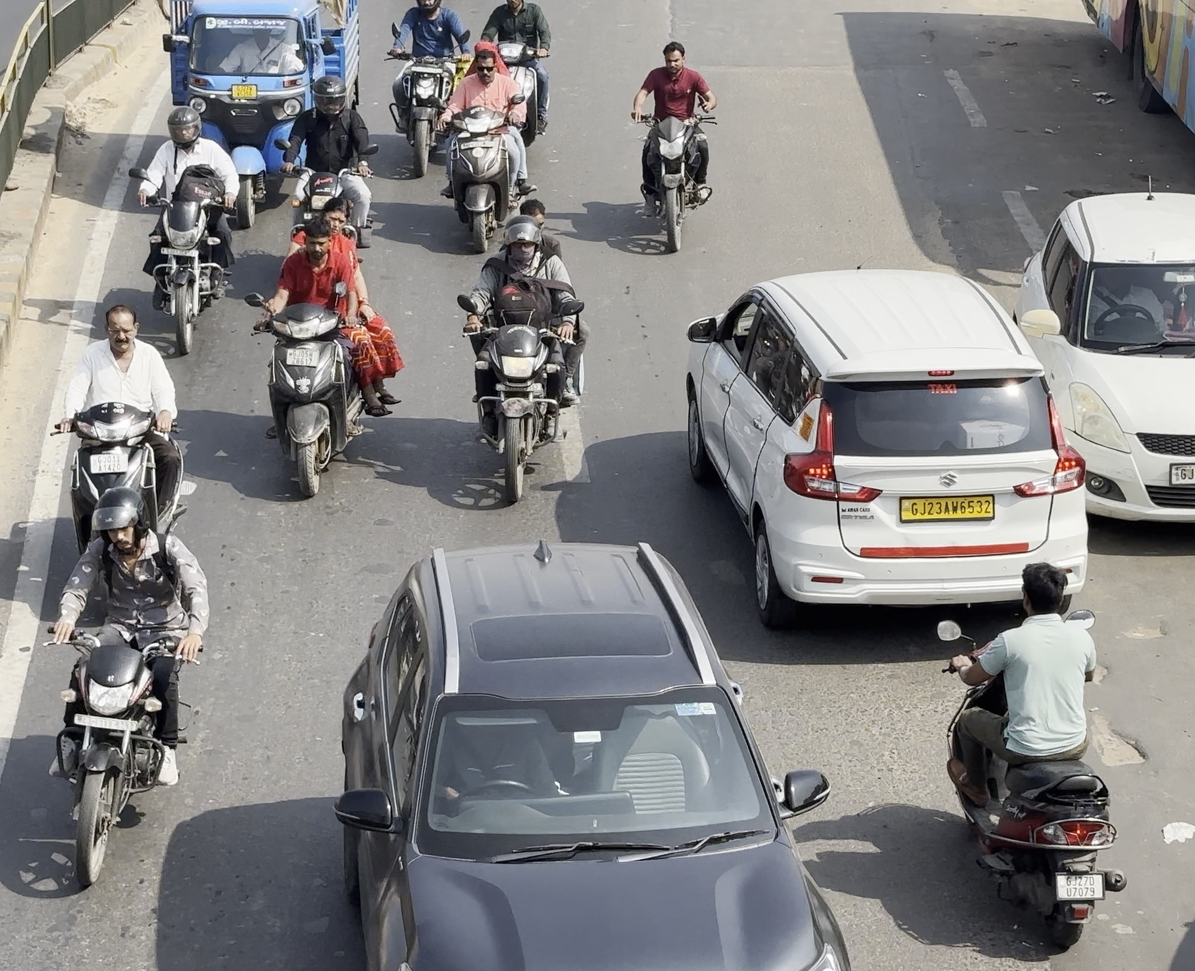BikeWithRider: (922, 553, 1134, 960), (33, 478, 216, 898), (237, 199, 411, 505), (450, 202, 596, 512), (42, 295, 195, 575), (124, 95, 252, 363), (428, 33, 544, 261), (622, 34, 729, 258), (276, 65, 385, 266), (380, 0, 474, 184)
Helmet: (85, 481, 154, 563), (158, 96, 212, 153), (496, 211, 549, 266), (304, 67, 355, 122)
NoHelmet: (1009, 555, 1083, 628), (95, 297, 146, 359), (292, 208, 340, 266), (466, 36, 505, 82), (655, 37, 692, 79), (515, 195, 552, 237)
